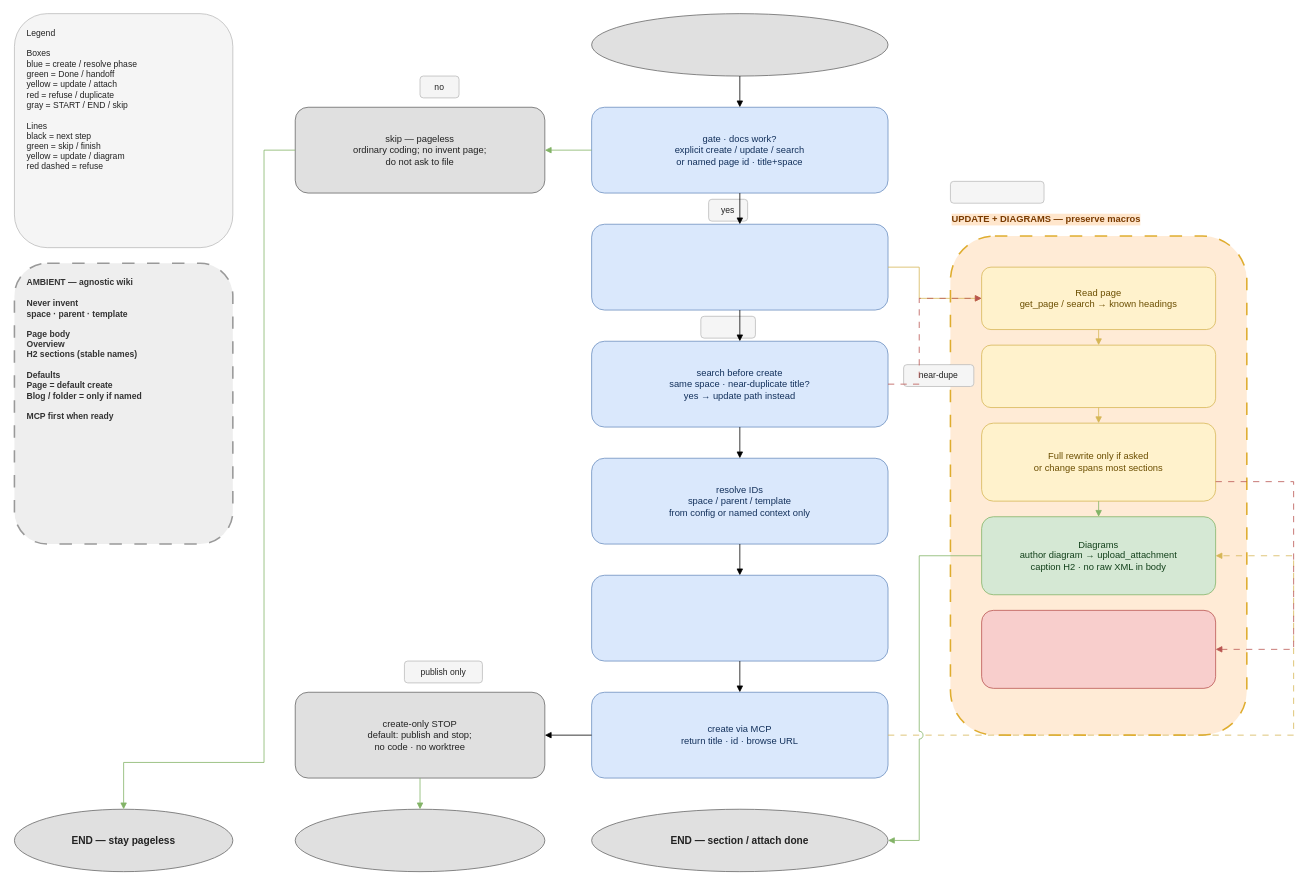
Some shapes in this 1314 by 885 pixel diagram are drawn without their labels. The shapes that lost their labels are listed below. From the top down, each one's box as (x1, y1, x2, y2) in pixels, then its label:
(591, 13, 888, 76): START — user ask
(950, 181, 1044, 203): update / read
(591, 223, 888, 310): intent create new · update named page · search / read only
(700, 316, 755, 338): create
(981, 344, 1216, 408): Section update first update_page_section · keep macros
(591, 574, 888, 661): structure + page Overview + stable H2 sections; cold-reader body
(981, 610, 1216, 688): refuse invent no space / parent / page id; near-dupe → update not create
(294, 808, 545, 872): END — page id + browse URL
